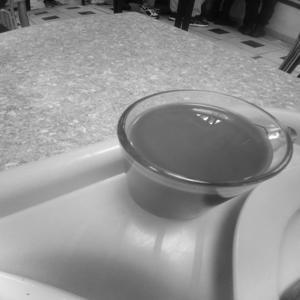coffee: (102, 77, 291, 222)
